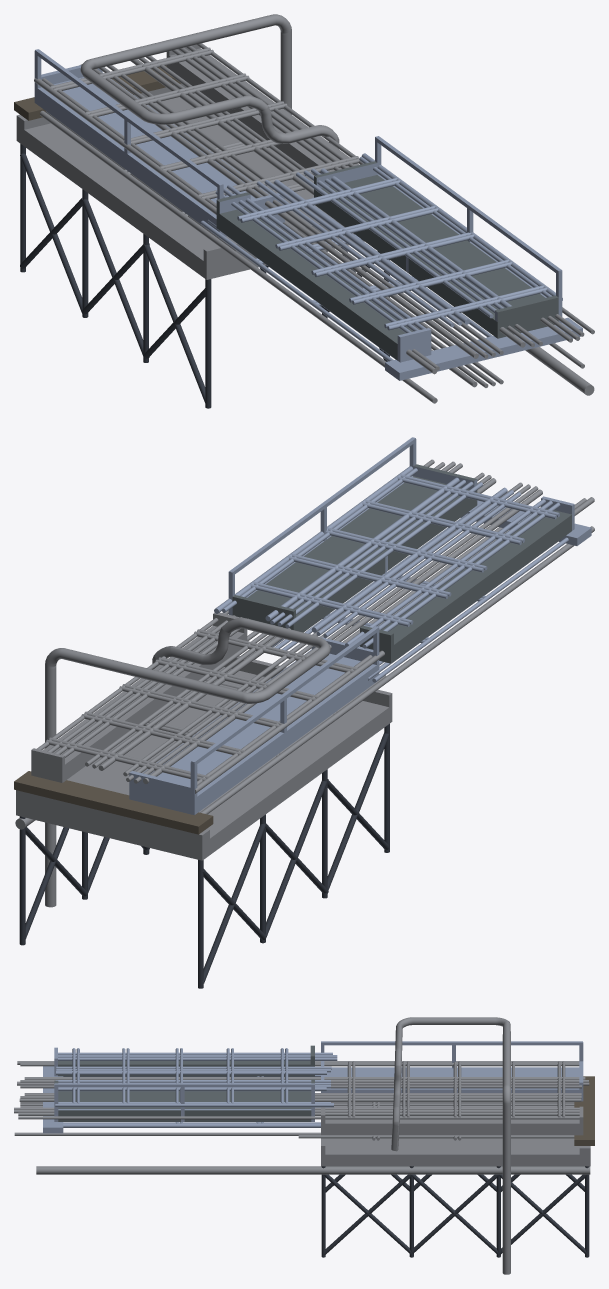
3 views of the same model, one above another, from view 1: azimuth 30°, elevation 25°; view 2: azimuth 150°, elevation 25°; view 3: azimuth 270°, elevation 25° (orthographic). The views are drawn at different scales.
Visible parts, largest first — view 1: _1.2, pasted__pasted__group_pasted__group7_group9_pasted__pasted__; view 2: _1.2, pasted__pasted__group_pasted__group7_group9_pasted__pasted__; view 3: _1.2, pasted__pasted__group_pasted__group7_group9_pasted__pasted__.
Boxes of the visible parts, x1=… form: _1.2: x1=14, y1=14, x2=594, y2=408; pasted__pasted__group_pasted__group7_group9_pasted__pasted__: x1=200, y1=136, x2=582, y2=380; _1.2: x1=14, y1=459, x2=594, y2=988; pasted__pasted__group_pasted__group7_group9_pasted__pasted__: x1=214, y1=437, x2=591, y2=682; _1.2: x1=14, y1=1017, x2=594, y2=1274; pasted__pasted__group_pasted__group7_group9_pasted__pasted__: x1=43, y1=1045, x2=337, y2=1133.
Bounding box in the file's own units: 0.5135 × 0.5818 × 1.66.
